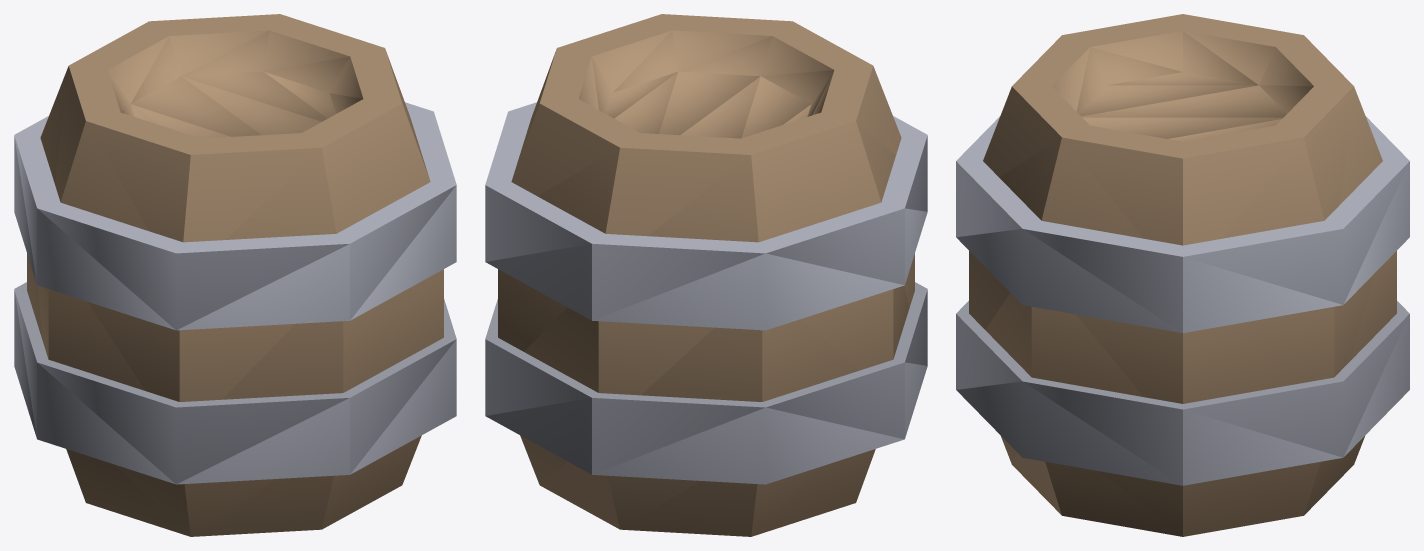
The model's file is K_Barrel.glb.
3 views of the same model, side by side, from view 1: azimuth 30°, elevation 25°; view 2: azimuth 150°, elevation 25°; view 3: azimuth 270°, elevation 25° (orthographic).
Parts seen in each view (by area): view 1: K_Barrel; view 2: K_Barrel; view 3: K_Barrel.
Boxes of the visible parts, left/top/right/bottom form: K_Barrel: left=14, top=14, right=456, bottom=536; K_Barrel: left=485, top=14, right=927, bottom=536; K_Barrel: left=956, top=14, right=1409, bottom=536.
Size of the model in its own units: 0.9783 by 0.9 by 0.9783.
